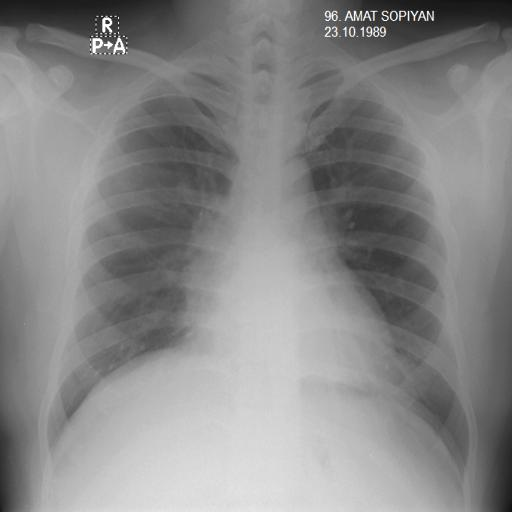normal: (32, 28, 480, 502)
